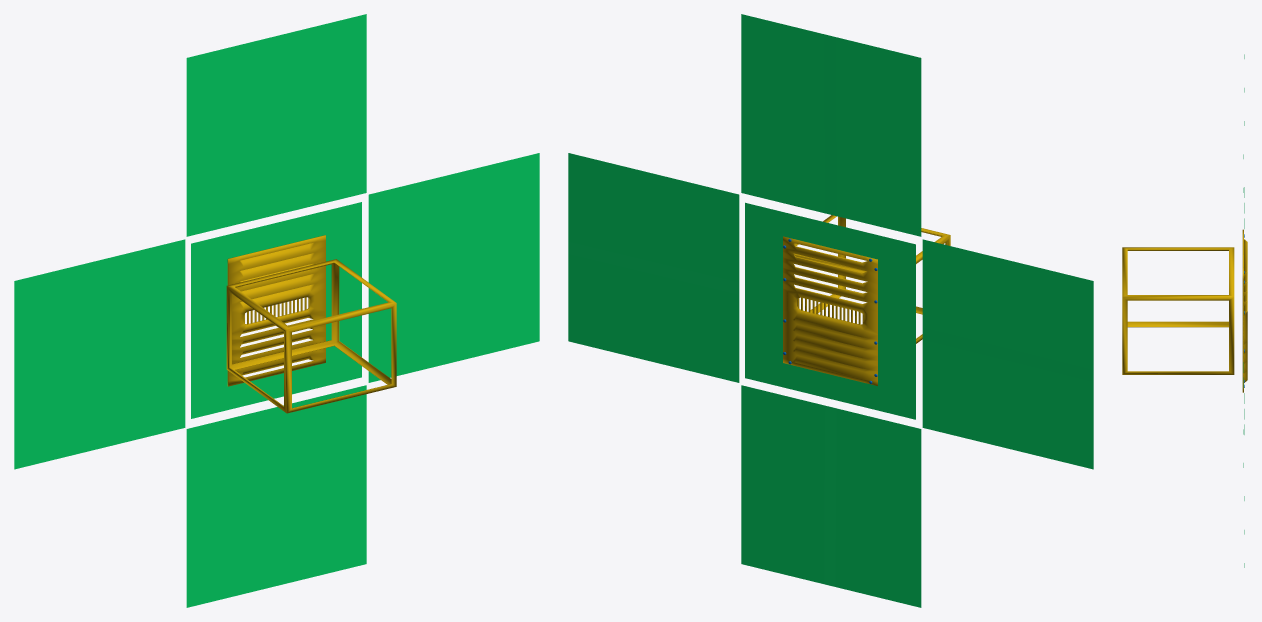
The model's file is Rag.fbx.
The picture shows the model from 3 angles, left to right: view 1: azimuth 30°, elevation 25°; view 2: azimuth 150°, elevation 25°; view 3: azimuth 270°, elevation 25°; orthographic projection. The views are drawn at different scales.
Parts seen in each view (by area): view 1: Rag.007, Rag.005, Rag.006, Rag.004, Rag.008, Mountings.018; view 2: Rag.007, Rag.004, Rag.005, Rag.006, Rag.008, Strap.002, Strap.003, Strap, Strap.001, Mountings.018; view 3: Mountings.018, Rag.008.
Boxes of the visible parts, x1=… form: Rag.007: x1=14, y1=239, x2=185, y2=469; Rag.005: x1=186, y1=14, x2=366, y2=236; Rag.006: x1=186, y1=385, x2=366, y2=607; Rag.004: x1=368, y1=153, x2=539, y2=382; Rag.008: x1=191, y1=202, x2=361, y2=418; Mountings.018: x1=226, y1=259, x2=396, y2=413; Rag.007: x1=922, y1=239, x2=1093, y2=469; Rag.004: x1=568, y1=153, x2=739, y2=382; Rag.005: x1=741, y1=14, x2=921, y2=236; Rag.006: x1=741, y1=385, x2=921, y2=607; Rag.008: x1=745, y1=202, x2=915, y2=419; Strap.002: x1=568, y1=242, x2=738, y2=293; Strap.003: x1=824, y1=406, x2=836, y2=586; Strap: x1=923, y1=328, x2=1091, y2=381; Strap.001: x1=824, y1=37, x2=836, y2=215; Mountings.018: x1=794, y1=215, x2=950, y2=343; Mountings.018: x1=1122, y1=247, x2=1234, y2=374; Rag.008: x1=1242, y1=229, x2=1247, y2=392.
Bounding box in the file's own units: 182 × 182 × 40.48.
